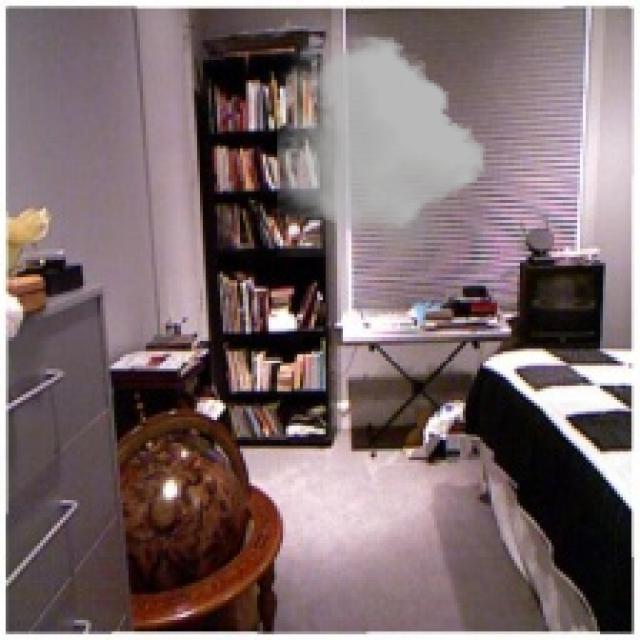Smoke: (277, 31, 486, 258)
